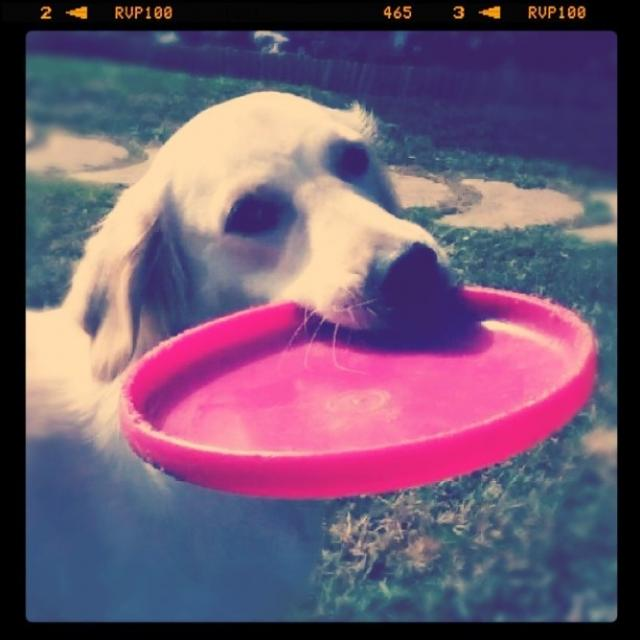dog: (25, 88, 460, 558)
